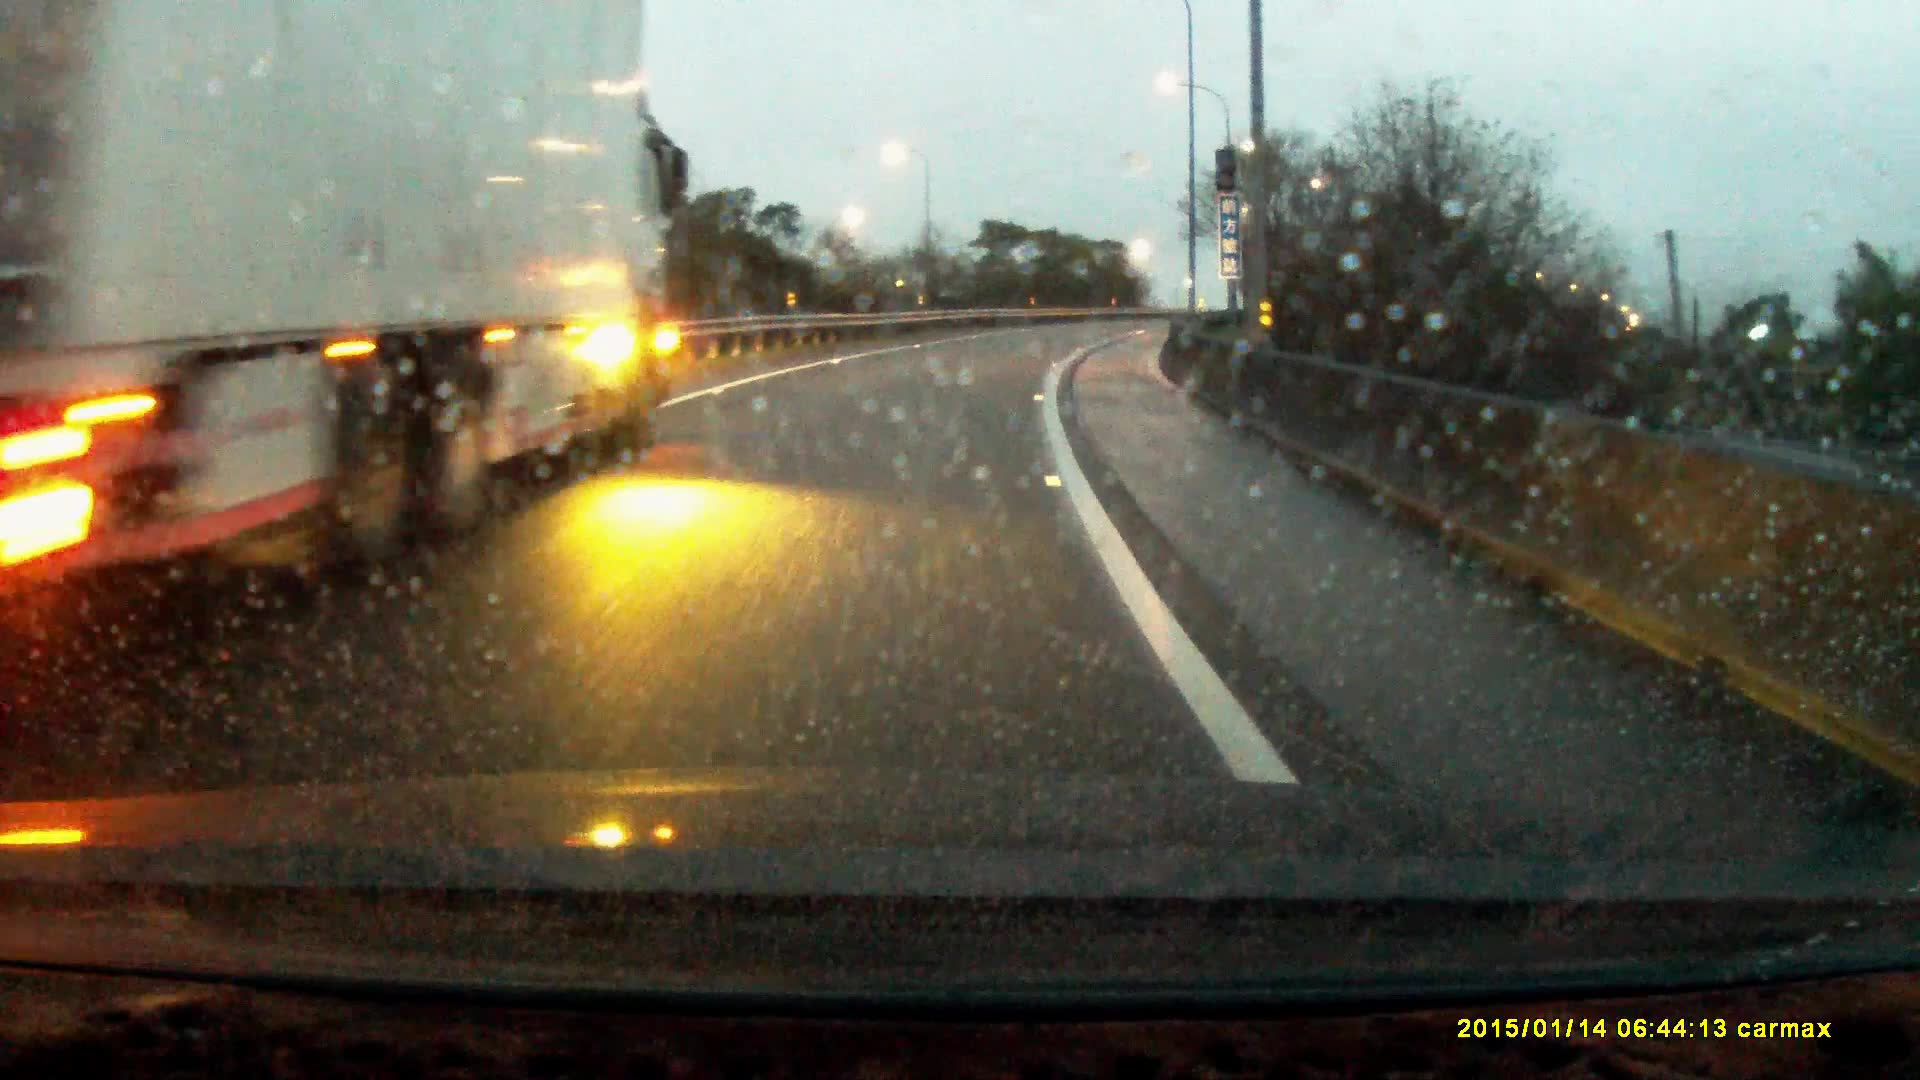vehicle: (3, 1, 682, 612)
